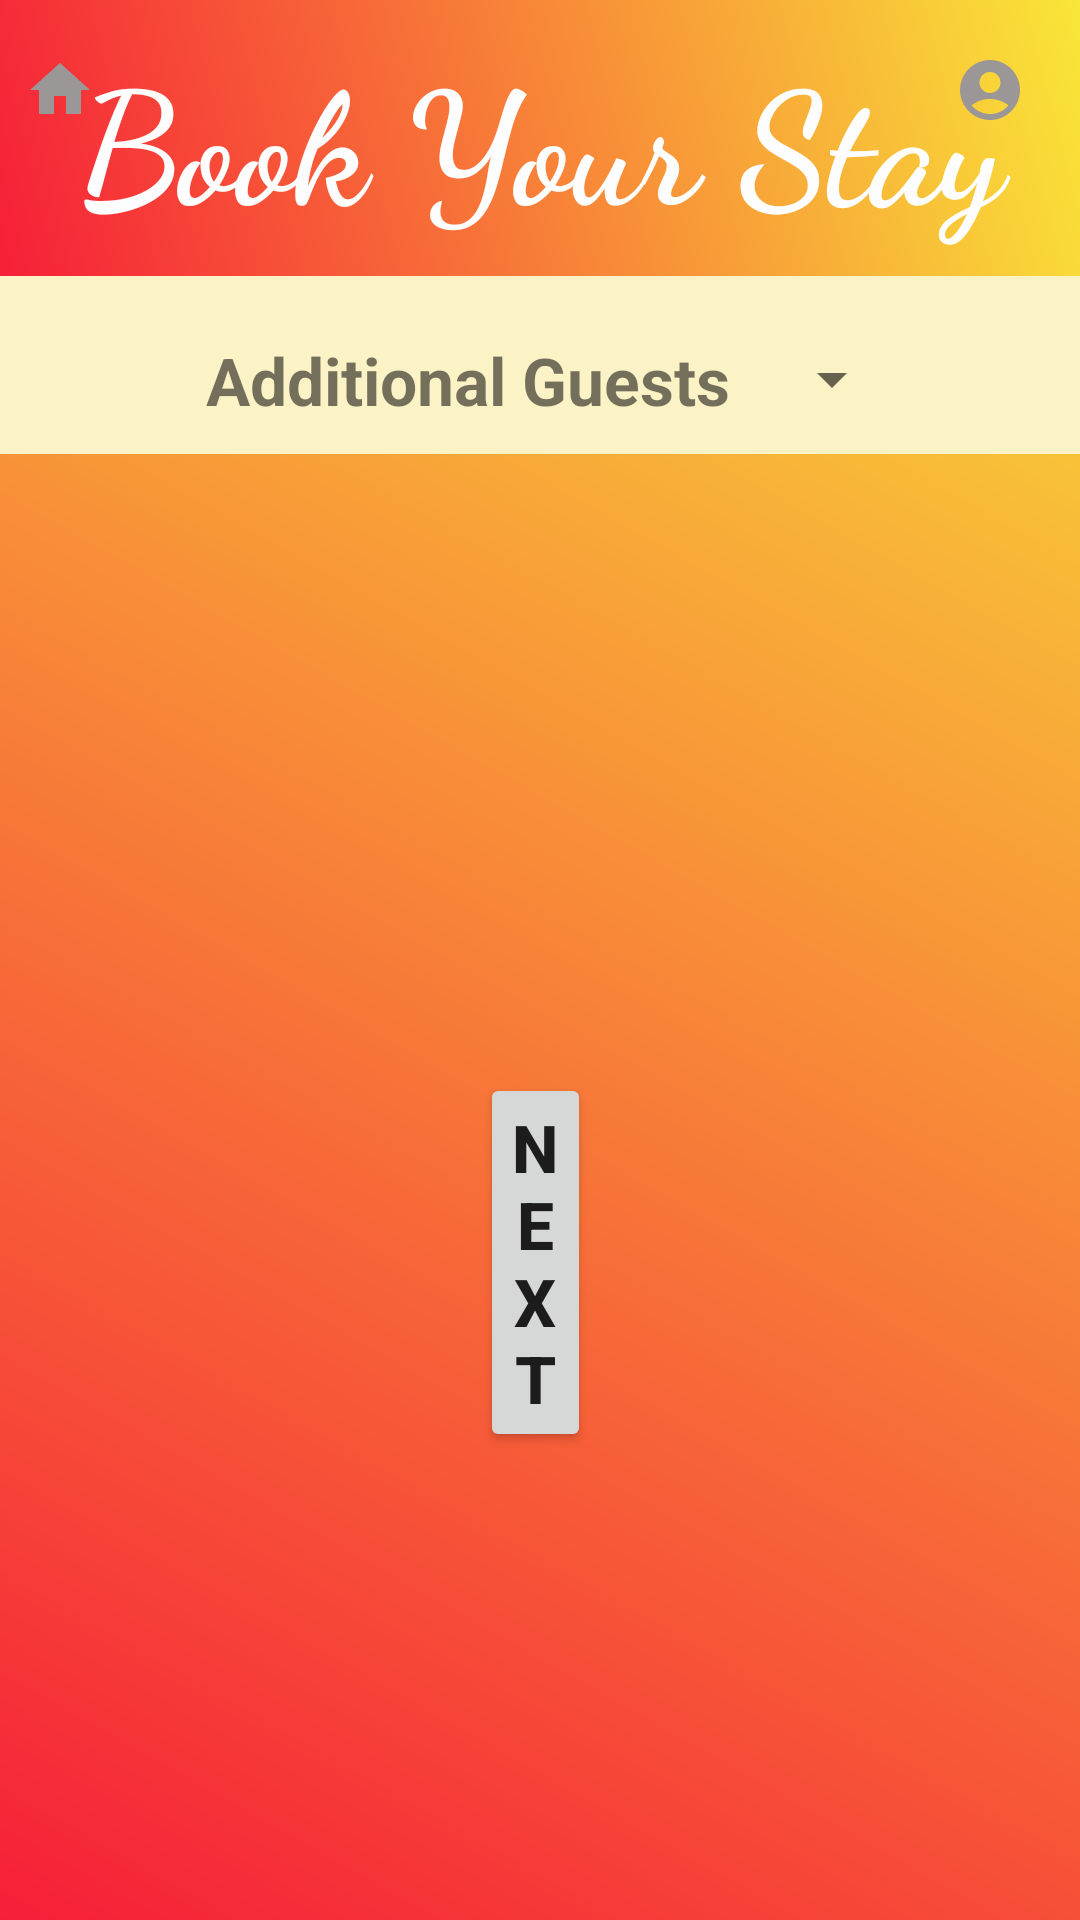

Icon bounding boxes for this 1080×1920 phone screenshot, format [x1,y1,x2,y2]:
account: [960,60,1020,120]
home: [30,63,90,114]
